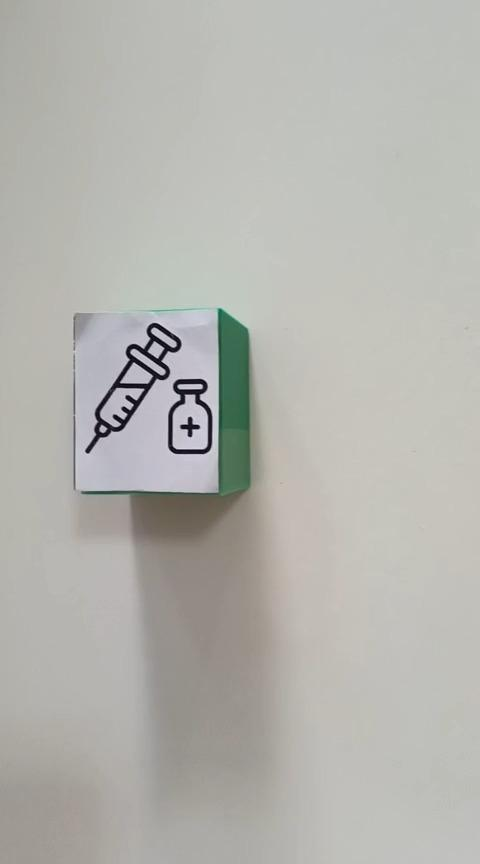antiseptic cream: (72, 306, 251, 496)
